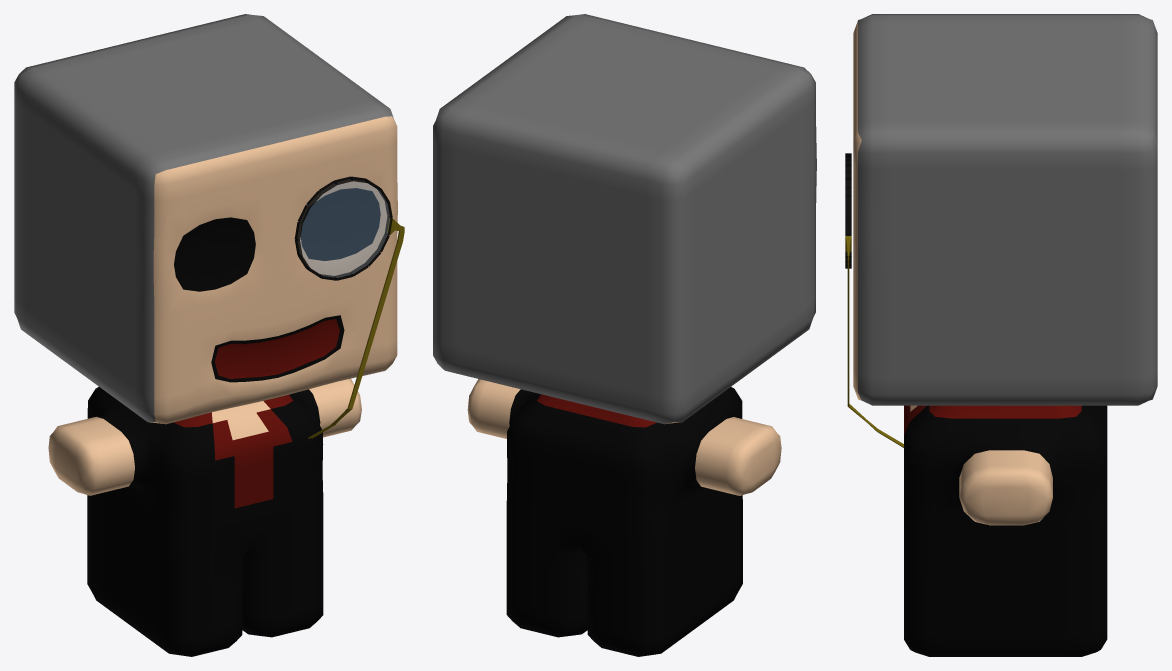
File: MrMonocle.FBX
The picture shows the model from 3 angles, left to right: view 1: azimuth 30°, elevation 25°; view 2: azimuth 150°, elevation 25°; view 3: azimuth 270°, elevation 25°; orthographic projection. The views are drawn at different scales.
Visible parts, largest first — view 1: NPCFortress, Cylinder001; view 2: NPCFortress; view 3: NPCFortress, Cylinder001.
Boxes of the visible parts, x1,y1,x2,y2 form: NPCFortress: (14, 14, 397, 656); Cylinder001: (294, 176, 404, 438); NPCFortress: (433, 14, 816, 656); NPCFortress: (853, 14, 1157, 656); Cylinder001: (845, 153, 904, 447).
Size of the model in its own units: 1.11 by 2 by 1.03.
